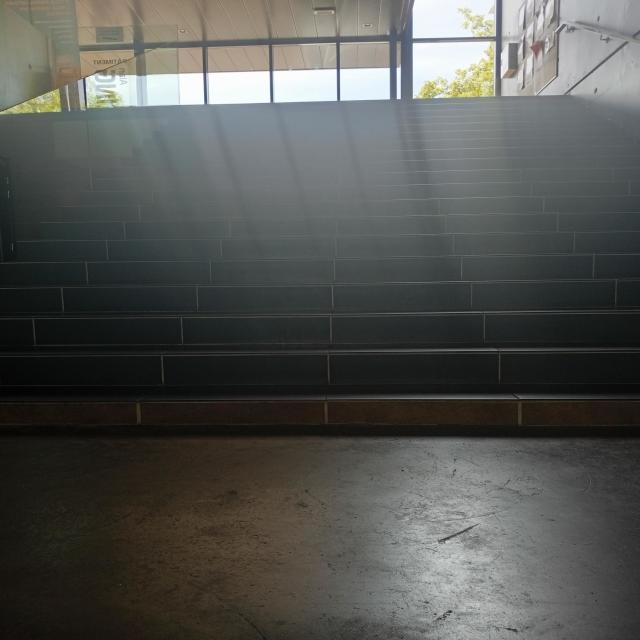Stairs: (0, 159, 640, 457)
